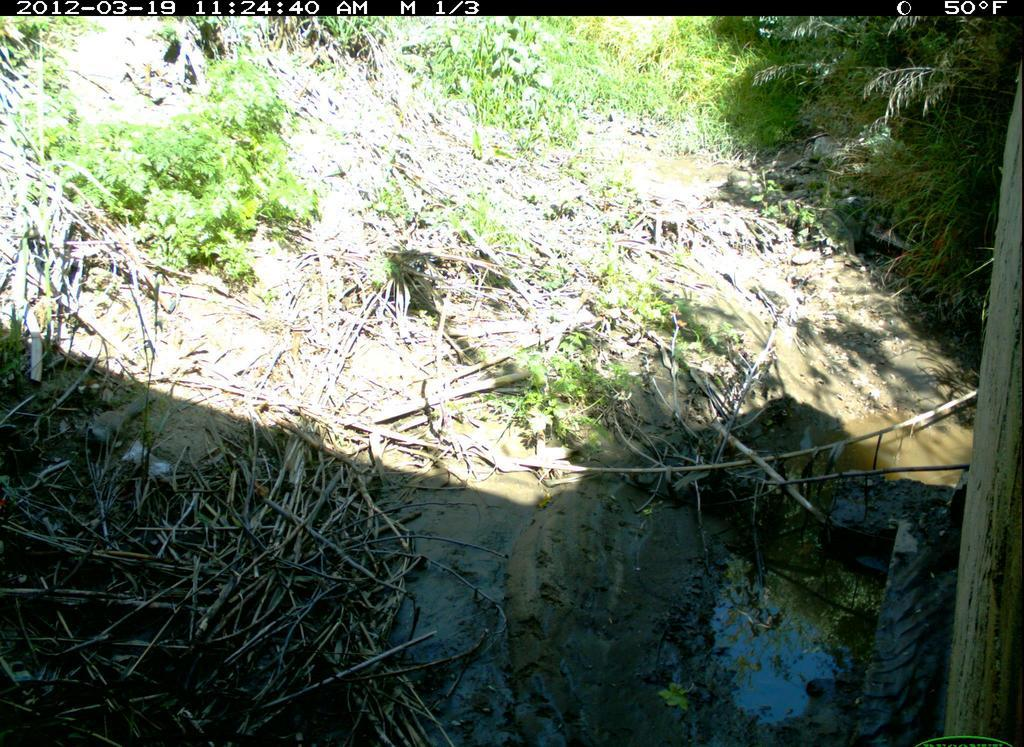squirrel: (79, 382, 162, 459)
